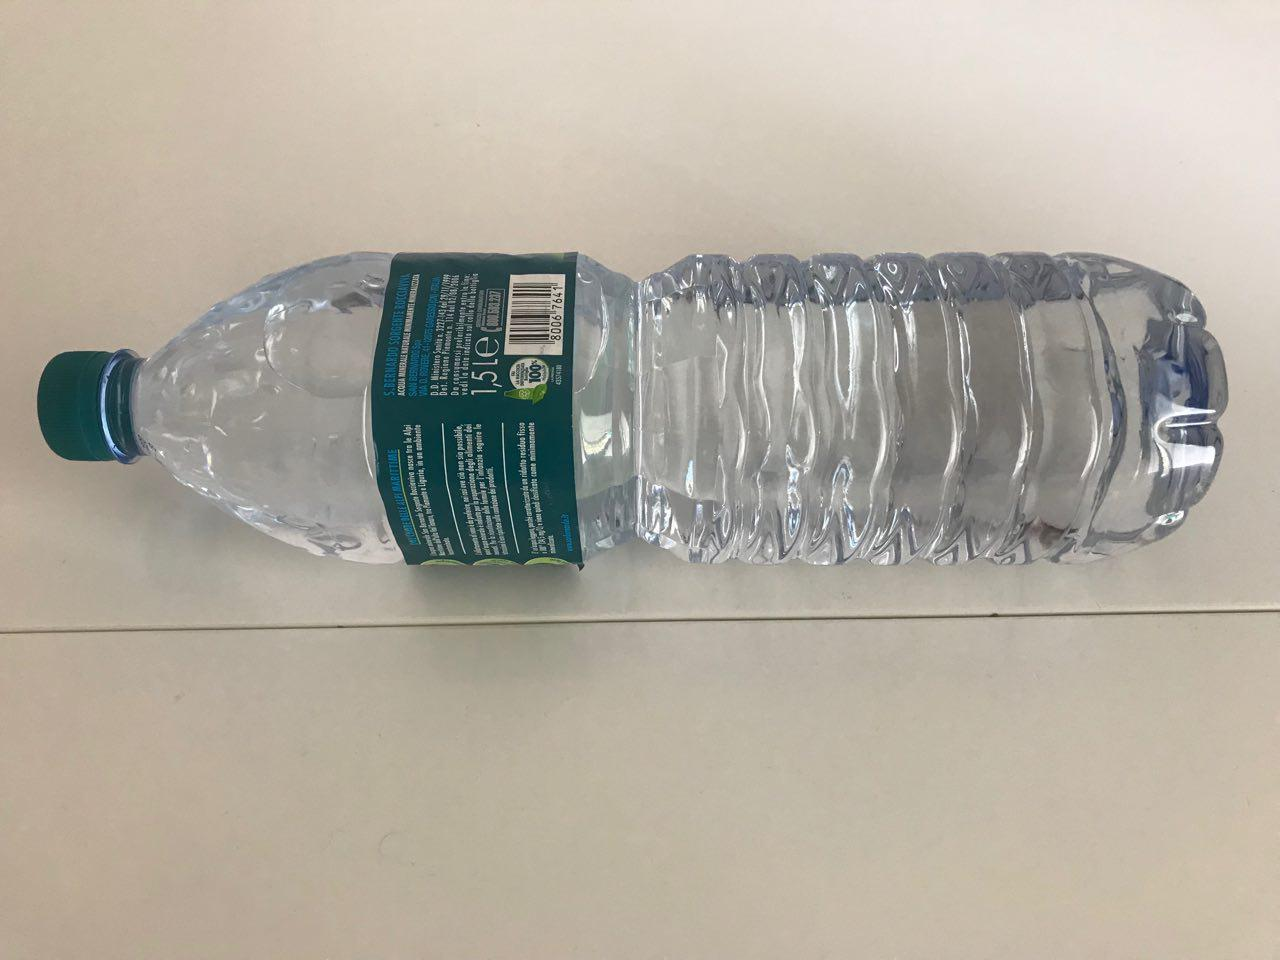san_bernardo: (34, 249, 1231, 567)
